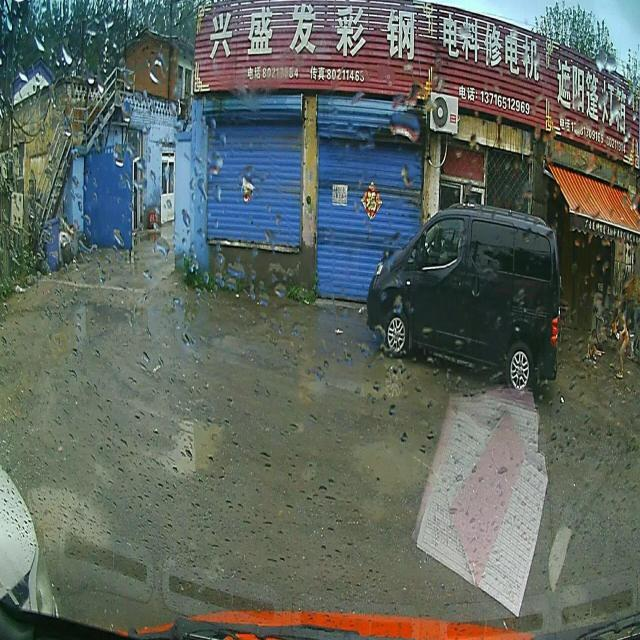car: (365, 160, 563, 378)
